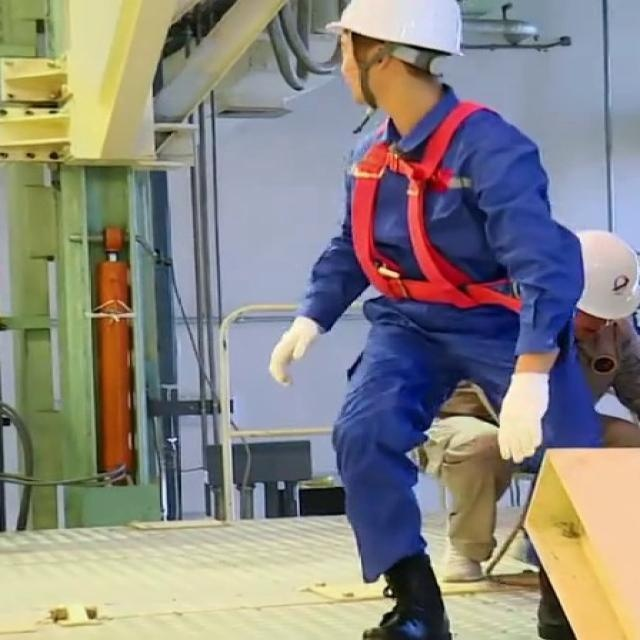Arnes_seguridad: (342, 91, 539, 317)
